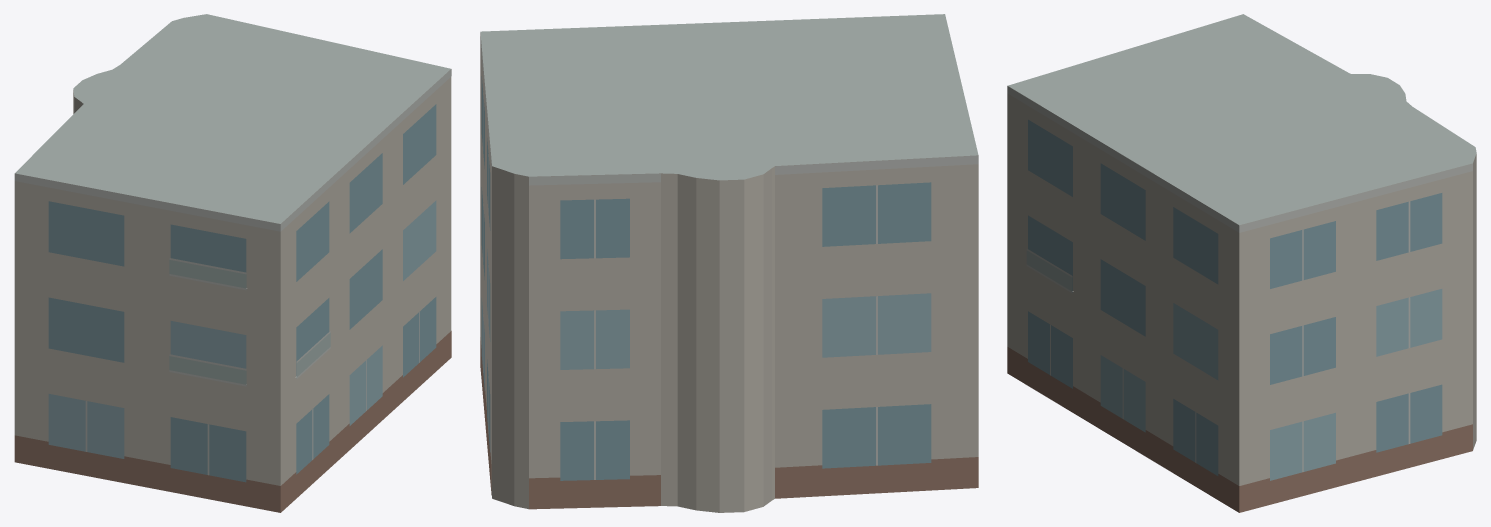
Rendered from survey-upis-32936436.glb.
3 views of the same model, side by side, from view 1: azimuth 30°, elevation 25°; view 2: azimuth 150°, elevation 25°; view 3: azimuth 270°, elevation 25° (orthographic). The views are drawn at different scales.
Parts seen in each view (by area): view 1: survey-upis-32936436.tmp; view 2: survey-upis-32936436.tmp; view 3: survey-upis-32936436.tmp.
Boxes of the visible parts, box(x1,y1,x2,y2) form: survey-upis-32936436.tmp: box(14, 14, 451, 512); survey-upis-32936436.tmp: box(480, 14, 978, 512); survey-upis-32936436.tmp: box(1007, 14, 1476, 512).
Size of the model in its own units: 14.42 by 9.15 by 13.53.
